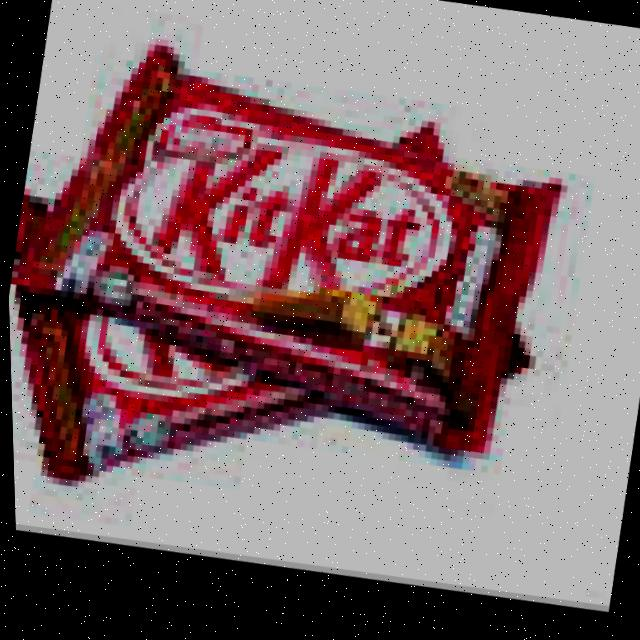kitkat: (3, 17, 600, 491)
